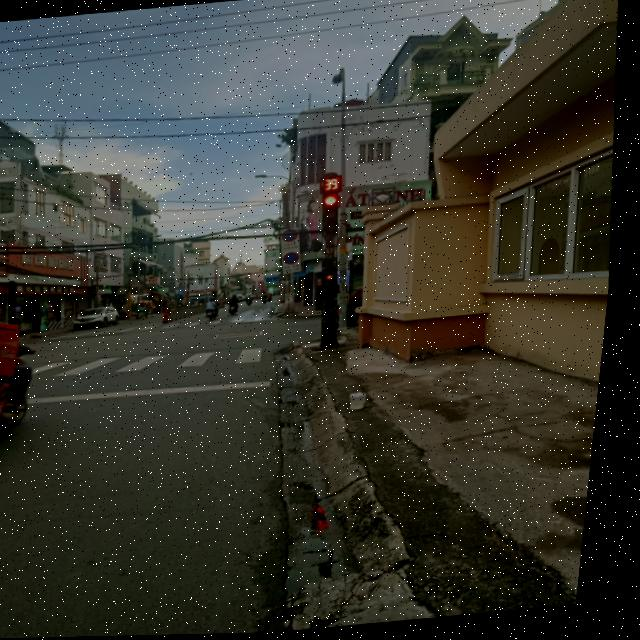Red: (321, 189, 352, 238), (326, 272, 350, 302)
